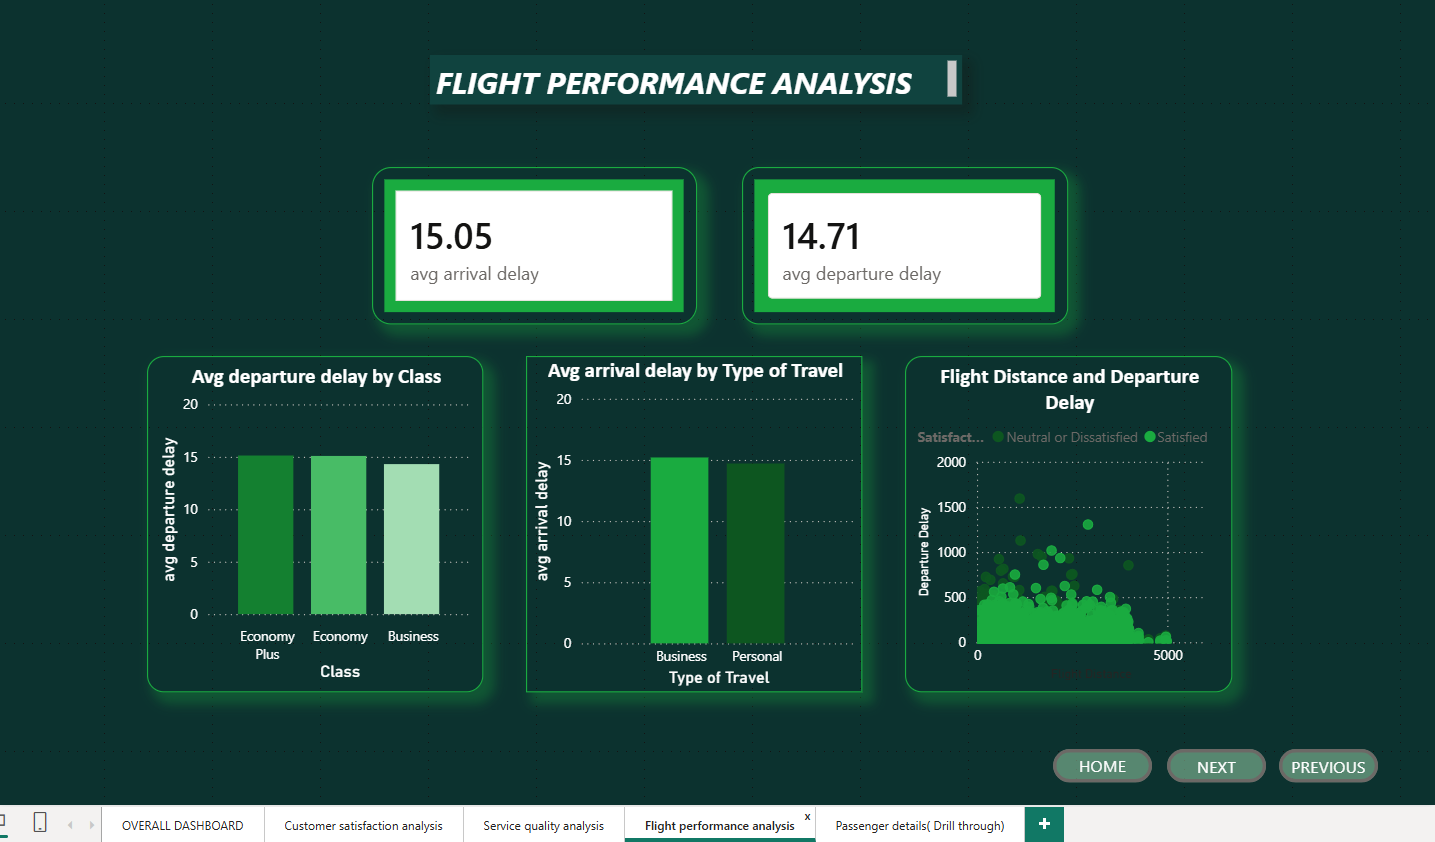

The page's visual inventory and layout, read from the dashboard file:
{"tool":"powerbi","page":{"name":"Flight performance analysis","canvas":[1280,720],"ordinal":3},"visuals":[{"type":"cardVisual","fields":{"Data":["Table3.avg departure delay"]},"box":[663.2,152.9,290,140.2],"z":0},{"type":"cardVisual","fields":{"Data":["Table3.avg arrival delay"]},"box":[334.2,152.9,288.9,140.2],"z":1000},{"type":"clusteredColumnChart","title":"Avg arrival delay by Type of Travel","fields":{"Category":["Table4.Type of Travel"],"Y":["Table3.avg arrival delay"]},"box":[470.8,320.5,299.4,299.4],"z":2000},{"type":"scatterChart","title":" Flight Distance and Departure Delay","fields":{"X":["Table3.Flight Distance"],"Y":["Table3.Departure Delay"],"Series":["Table1.Satisfaction"]},"box":[807.6,320.5,291,299.4],"z":3000},{"type":"clusteredColumnChart","title":"Avg departure delay by Class","fields":{"Category":["Table4.Class"],"Y":["Table3.avg departure delay"]},"box":[133.9,320.5,299.4,299.4],"z":4000},{"type":"textbox","box":[385.9,53.8,473.4,44.3],"z":5000},{"type":"actionButton","box":[939.2,670,88.1,29.7],"z":6000},{"type":"actionButton","box":[1140.1,670,88.1,29.7],"z":7000},{"type":"actionButton","box":[1041.2,670,88.1,29.7],"z":8000}]}

Visuals, with their boxes on the page's 1280x720 design canvas (x1, y1, x2, y2). These are canvas units, not pixel positions in the 1435x842 screenshot, which may show the page scaled, cropped or inside an application window:
cardVisual - Table3.avg departure delay: crop(663, 153, 953, 293)
cardVisual - Table3.avg arrival delay: crop(334, 153, 623, 293)
"Avg arrival delay by Type of Travel" clusteredColumnChart: crop(471, 320, 770, 620)
" Flight Distance and Departure Delay" scatterChart: crop(808, 320, 1099, 620)
"Avg departure delay by Class" clusteredColumnChart: crop(134, 320, 433, 620)
textbox: crop(386, 54, 859, 98)
actionButton: crop(939, 670, 1027, 700)
actionButton: crop(1140, 670, 1228, 700)
actionButton: crop(1041, 670, 1129, 700)
